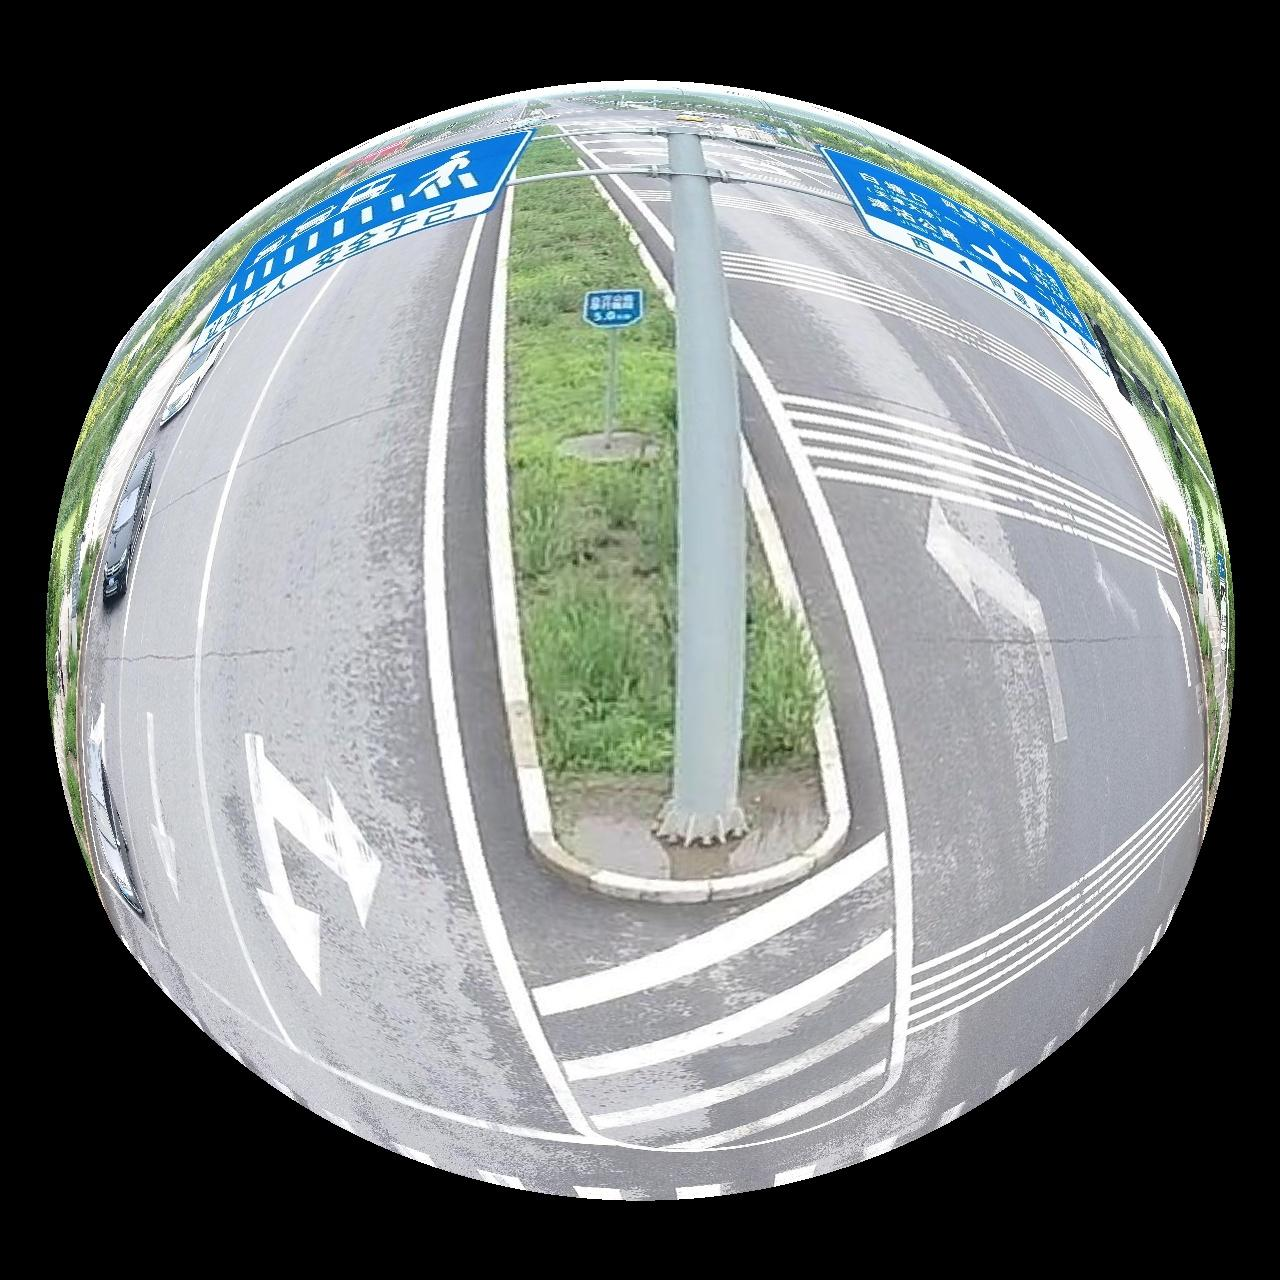cars: (84, 735, 142, 917), (101, 450, 151, 606), (159, 328, 229, 424)
